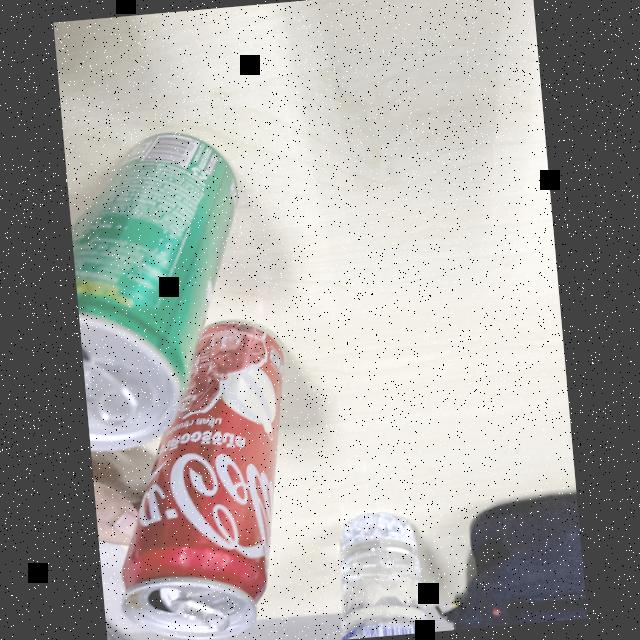can: (94, 314, 308, 640), (64, 131, 266, 452)
